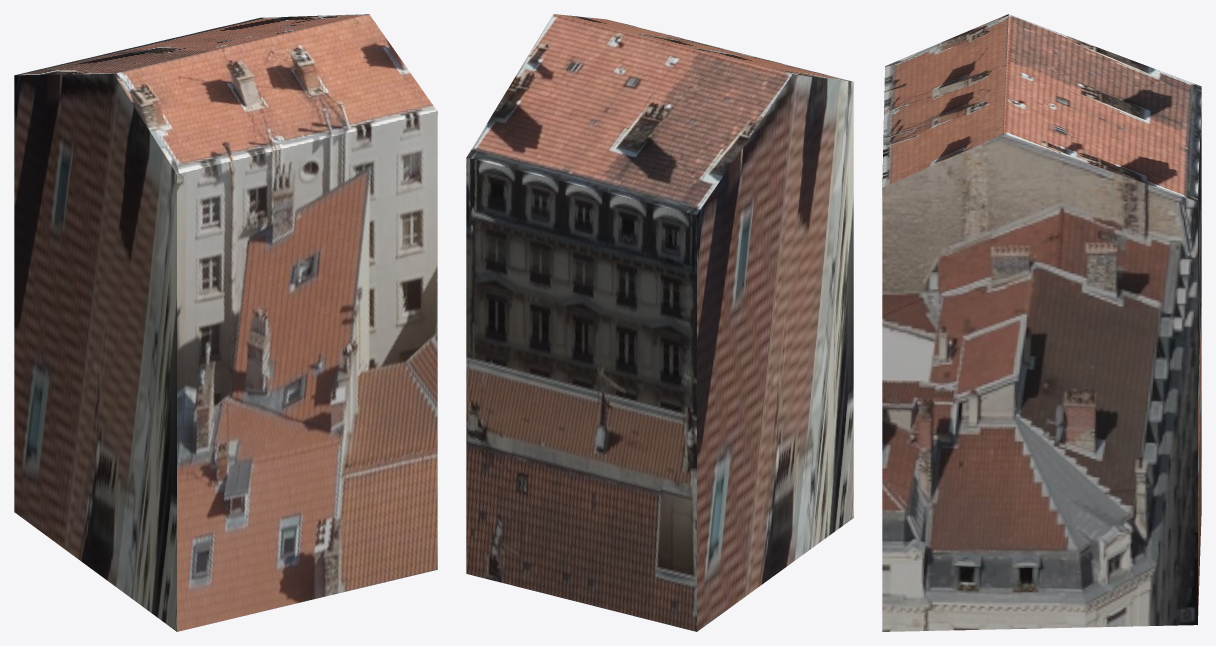
3 views of the same model, side by side, from view 1: azimuth 30°, elevation 25°; view 2: azimuth 150°, elevation 25°; view 3: azimuth 270°, elevation 25° (orthographic). The views are drawn at different scales.
Visible parts, largest first — view 1: Z_UP; view 2: Z_UP; view 3: Z_UP.
Boxes of the visible parts, x1,y1,x2,y2 form: Z_UP: (14, 14, 437, 631); Z_UP: (466, 14, 853, 631); Z_UP: (882, 14, 1201, 631).
Bounding box in the file's own units: 14.74 × 27.81 × 16.25.
2 materials, 1 textured.
